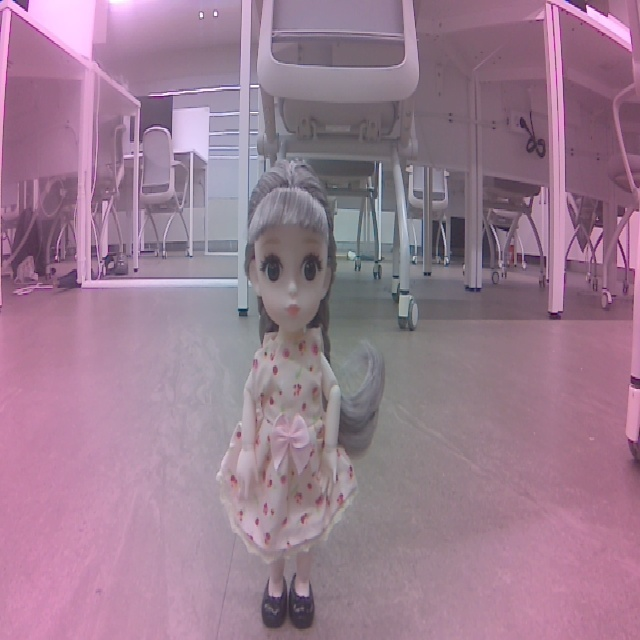장애물: (228, 151, 386, 640)
